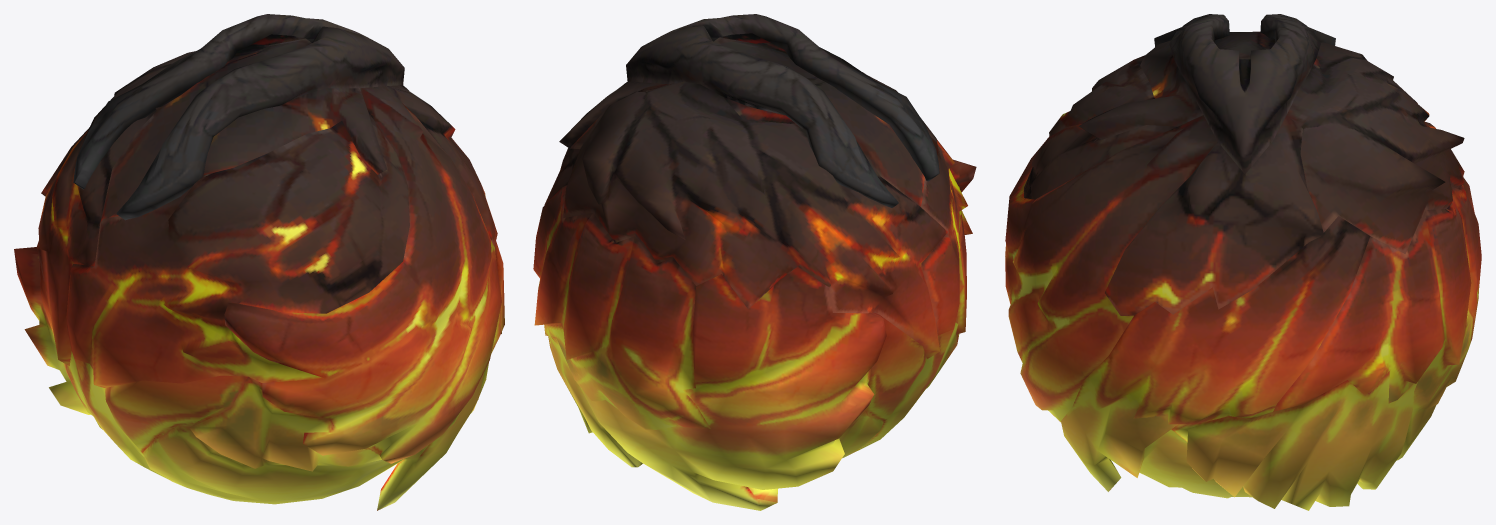
File: phoenix_egg.fbx
The picture shows the model from 3 angles, left to right: view 1: azimuth 30°, elevation 25°; view 2: azimuth 150°, elevation 25°; view 3: azimuth 270°, elevation 25°; orthographic projection. The views are drawn at different scales.
Visible parts, largest first — view 1: phoenix_egg; view 2: phoenix_egg; view 3: phoenix_egg.
Part boxes in pixels (<box>): phoenix_egg: <box>14,14,504,510</box>; phoenix_egg: <box>533,14,976,510</box>; phoenix_egg: <box>1005,14,1481,510</box>.
Bounding box in the file's own units: 132 × 136 × 130.
